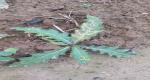osot: (8, 15, 137, 68)
